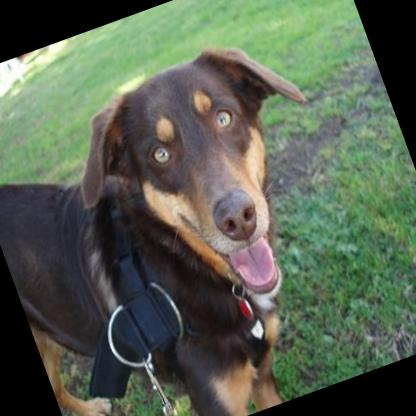kelpie: (0, 23, 390, 416)
